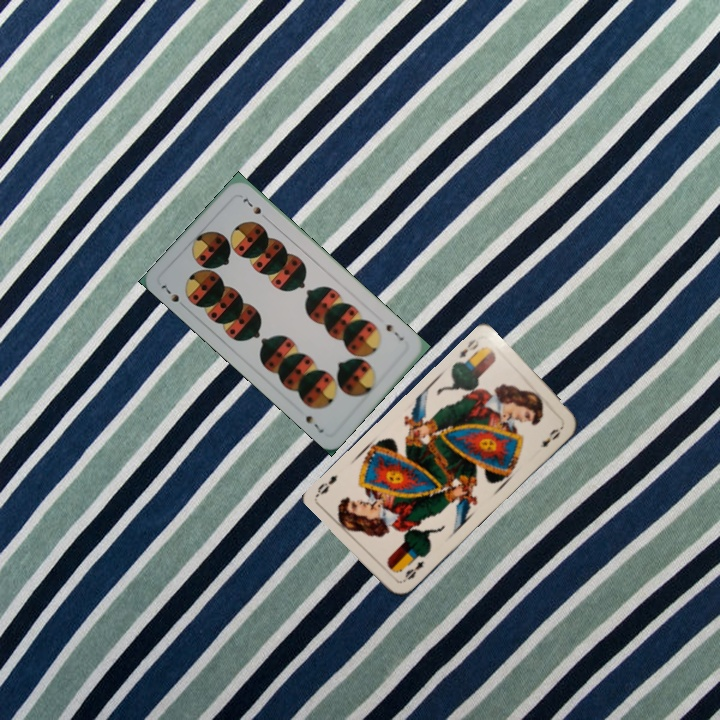EO: (455, 334, 481, 361), (401, 556, 427, 582)
S7: (157, 279, 189, 311), (382, 320, 406, 343)
